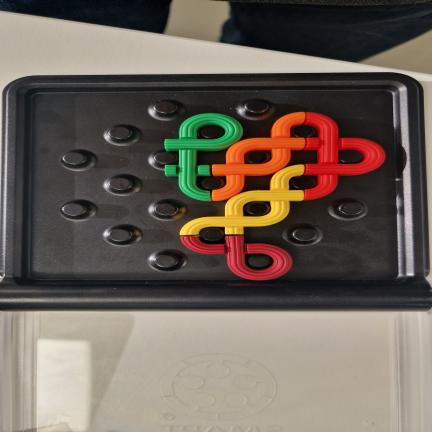A_Yellow: (180, 165, 304, 235)
D_Green: (165, 114, 242, 201)
E_Red: (304, 113, 385, 200)
I_Orange: (212, 113, 305, 200)
J_DarkRed: (181, 236, 292, 280)
board: (2, 74, 430, 309)
hinge: (0, 276, 432, 316)
pin: (290, 175, 317, 190), (247, 254, 273, 269), (198, 125, 225, 139), (244, 99, 269, 114), (338, 202, 363, 216), (292, 228, 317, 242), (62, 152, 86, 166), (339, 150, 363, 164), (62, 203, 86, 217), (246, 202, 270, 216), (108, 229, 132, 243), (154, 254, 178, 268), (293, 124, 316, 138), (154, 151, 177, 165), (109, 177, 132, 191), (153, 101, 177, 114), (246, 151, 270, 164), (154, 203, 178, 216), (200, 228, 224, 241), (201, 177, 224, 190), (109, 127, 131, 140)
